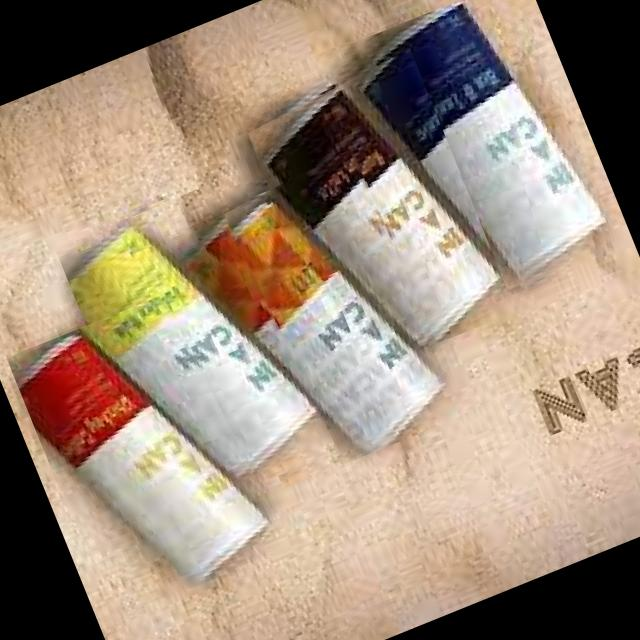Cans: (173, 144, 466, 487), (5, 284, 294, 626), (52, 176, 336, 520), (236, 47, 514, 380), (334, 0, 619, 323)
